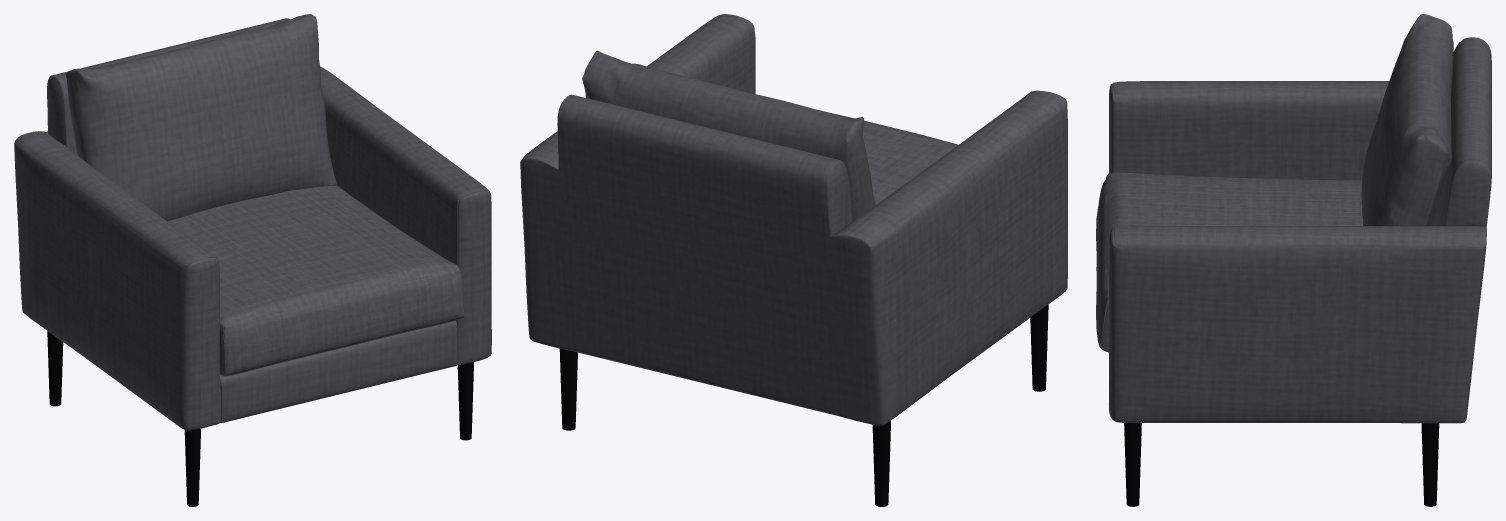
File: friheten_fotel_30304793.glb
3 renders of one model, left to right at view 1: azimuth 30°, elevation 25°; view 2: azimuth 150°, elevation 25°; view 3: azimuth 270°, elevation 25°, orthographic. The views are drawn at different scales.
Visible parts, largest first — view 1: friheten_fotel_30304793; view 2: friheten_fotel_30304793; view 3: friheten_fotel_30304793.
Boxes of the visible parts, x1=… form: friheten_fotel_30304793: x1=14, y1=14, x2=491, y2=506; friheten_fotel_30304793: x1=520, y1=14, x2=1067, y2=506; friheten_fotel_30304793: x1=1096, y1=14, x2=1491, y2=506.
Bounding box in the file's own units: 0.7284 × 0.7301 × 0.7323.
1 material, 1 textured.
